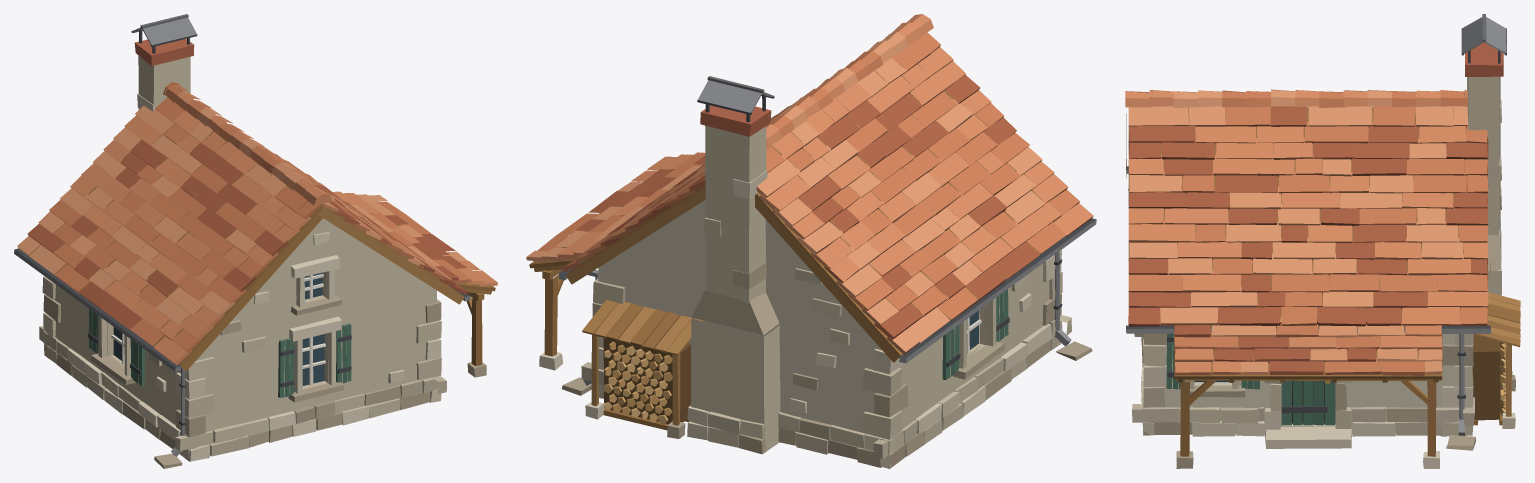
Rendered from forestiere.glb.
3 renders of one model, left to right at view 1: azimuth 30°, elevation 25°; view 2: azimuth 150°, elevation 25°; view 3: azimuth 270°, elevation 25°, orthographic. The views are drawn at different scales.
Parts seen in each view (by area): view 1: forestiere; view 2: forestiere; view 3: forestiere.
Boxes of the visible parts, box(x1,y1,x2,y2) form: forestiere: box(14, 14, 497, 468); forestiere: box(526, 14, 1096, 468); forestiere: box(1125, 14, 1520, 468).
Size of the model in its own units: 8.48 by 7.01 by 7.38.
